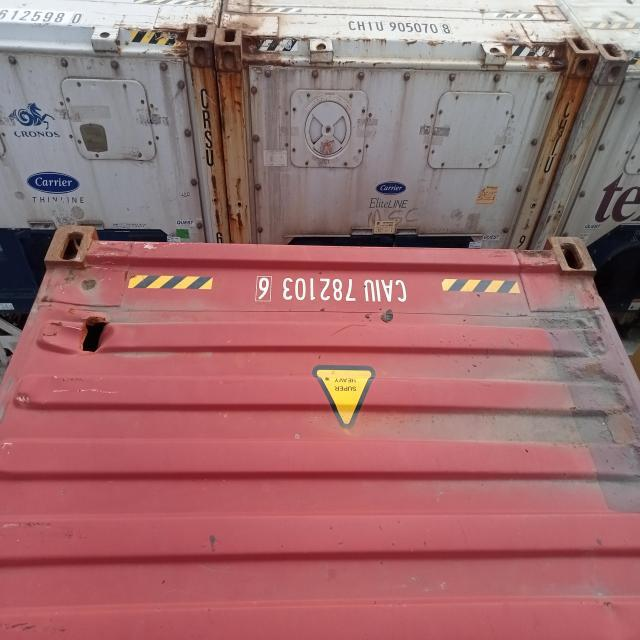hole: (72, 312, 116, 357)
